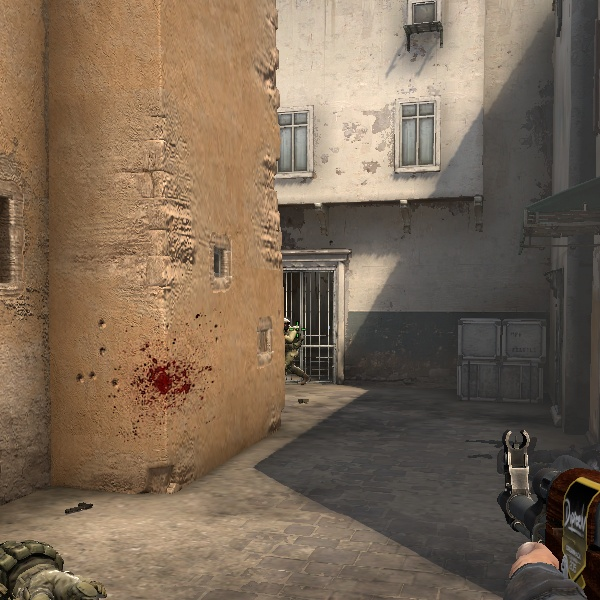ct_body: (282, 317, 305, 379)
ct_head: (284, 316, 291, 331)
